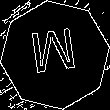M_S: (29, 27, 81, 83)
